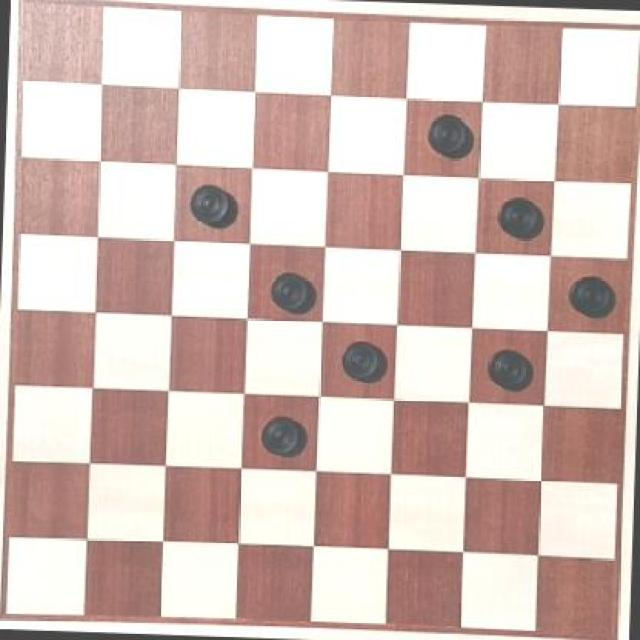BOARD: (19, 2, 613, 640)
black: (416, 99, 470, 171), (251, 261, 316, 316), (332, 334, 387, 394), (472, 337, 532, 391), (186, 171, 234, 238), (563, 271, 614, 330), (494, 193, 549, 245), (252, 411, 310, 456)
